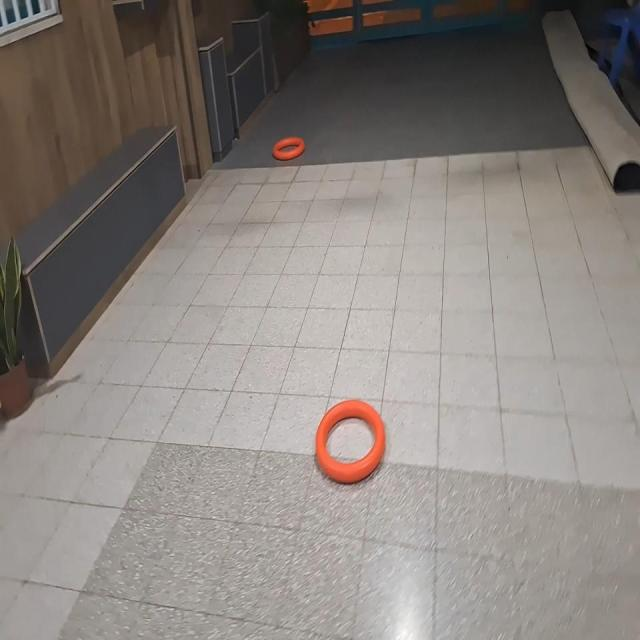note: (315, 400, 386, 485), (272, 136, 305, 160)
